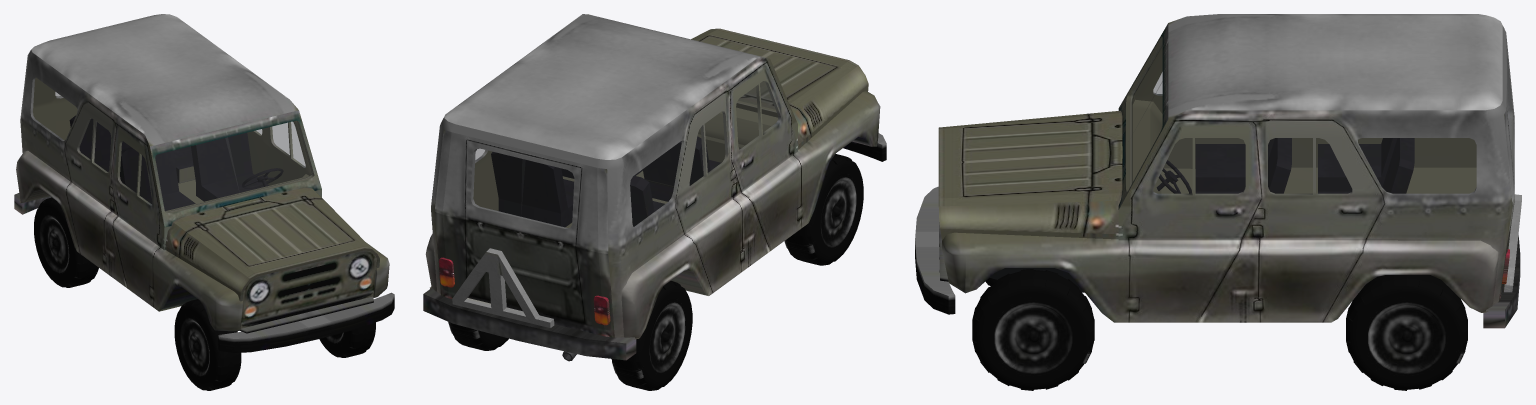
File: uaz469.gltf
3 views of the same model, side by side, from view 1: azimuth 30°, elevation 25°; view 2: azimuth 150°, elevation 25°; view 3: azimuth 270°, elevation 25° (orthographic). The views are drawn at different scales.
Parts seen in each view (by area): view 1: Body, Wheel_FR, Wheel_RR, Wheel_FL; view 2: Body, Wheel_FR, Wheel_RR, Wheel_RL; view 3: Body, Wheel_FL, Wheel_RL.
Part boxes in pixels (<box>): Body: <box>14,14,394,352</box>; Wheel_FR: <box>174,299,241,390</box>; Wheel_RR: <box>34,197,98,287</box>; Wheel_FL: <box>319,322,375,357</box>; Body: <box>423,14,886,361</box>; Wheel_FR: <box>784,154,863,265</box>; Wheel_RR: <box>611,281,692,390</box>; Wheel_RL: <box>448,322,508,350</box>; Body: <box>915,14,1521,328</box>; Wheel_FL: <box>972,269,1094,390</box>; Wheel_RL: <box>1346,275,1467,390</box>.
Bounding box in the file's own units: 1.71 × 2.02 × 3.87.
2 materials, 2 textured.
